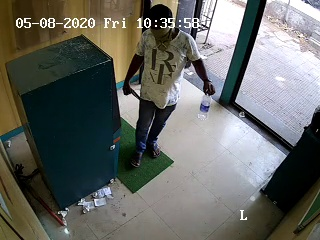open: (136, 3, 263, 116)
